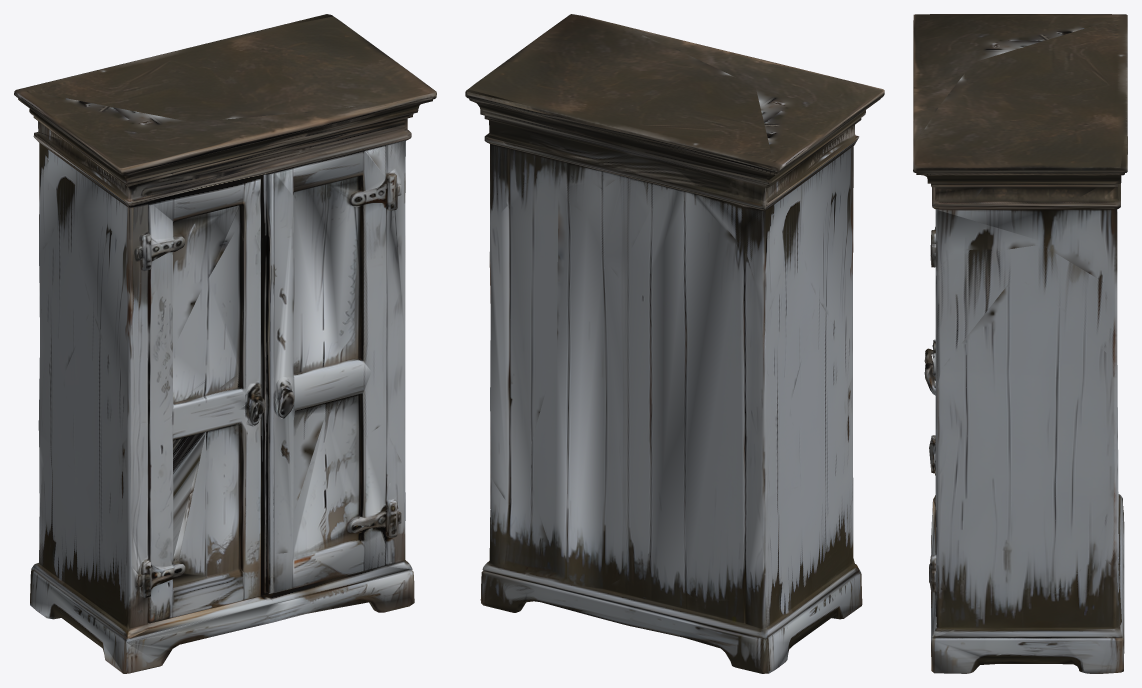
Rendered from lhi_wardrobe.glb.
3 renders of one model, left to right at view 1: azimuth 30°, elevation 25°; view 2: azimuth 150°, elevation 25°; view 3: azimuth 270°, elevation 25°, orthographic.
Parts seen in each view (by area): view 1: material; view 2: material; view 3: material.
Part boxes in pixels (x1,y1,x2,y2): material: (14,14,436,673); material: (465,14,884,673); material: (913,14,1127,673).
Size of the model in its own units: 0.6184 by 0.9652 by 0.3656.
1 material, 1 textured.
